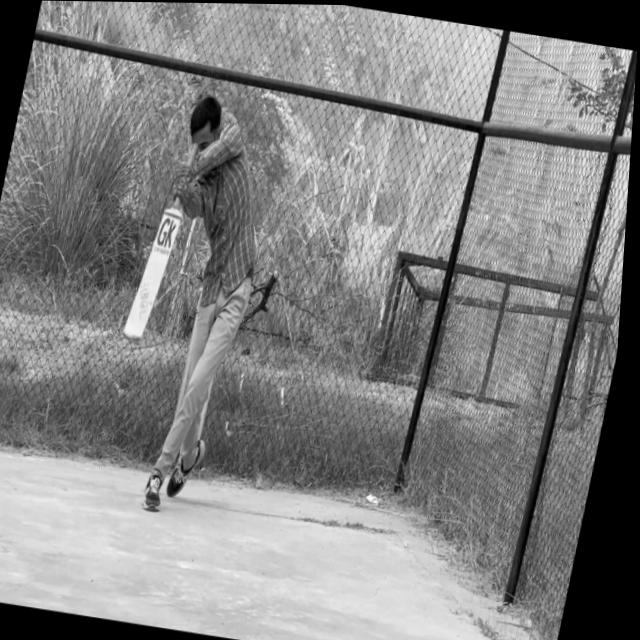Batsman: (98, 90, 307, 535)
